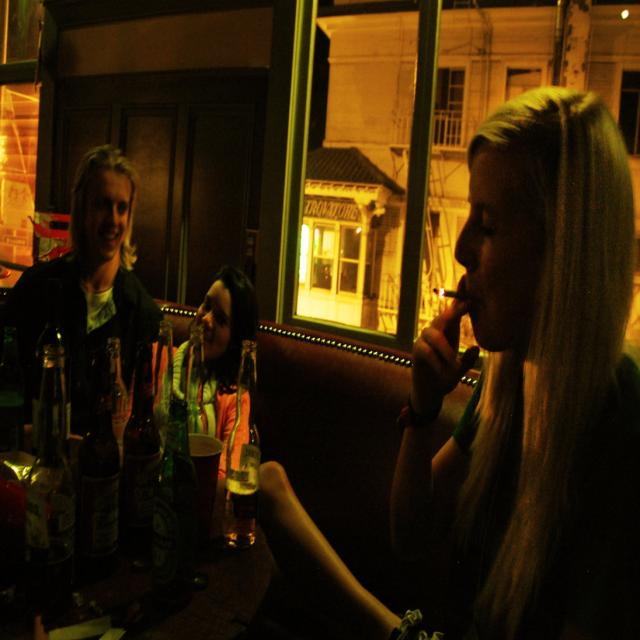Bottle: (13, 315, 75, 603), (225, 335, 273, 553), (113, 334, 158, 564), (160, 367, 197, 591), (80, 348, 115, 578)
People: (428, 103, 640, 640), (44, 90, 172, 379), (171, 235, 278, 385)
